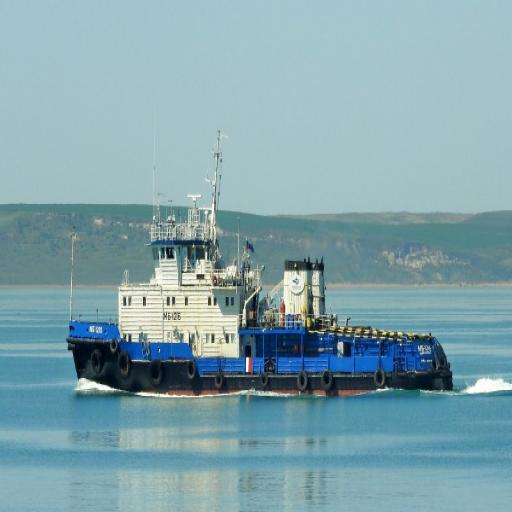tugboat: (67, 191, 460, 407)
